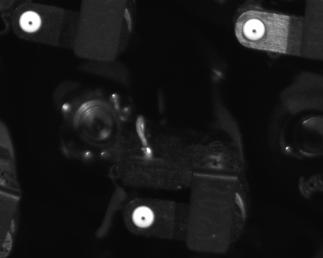fiber: (126, 203, 164, 233), (14, 8, 48, 38), (239, 16, 270, 45)
